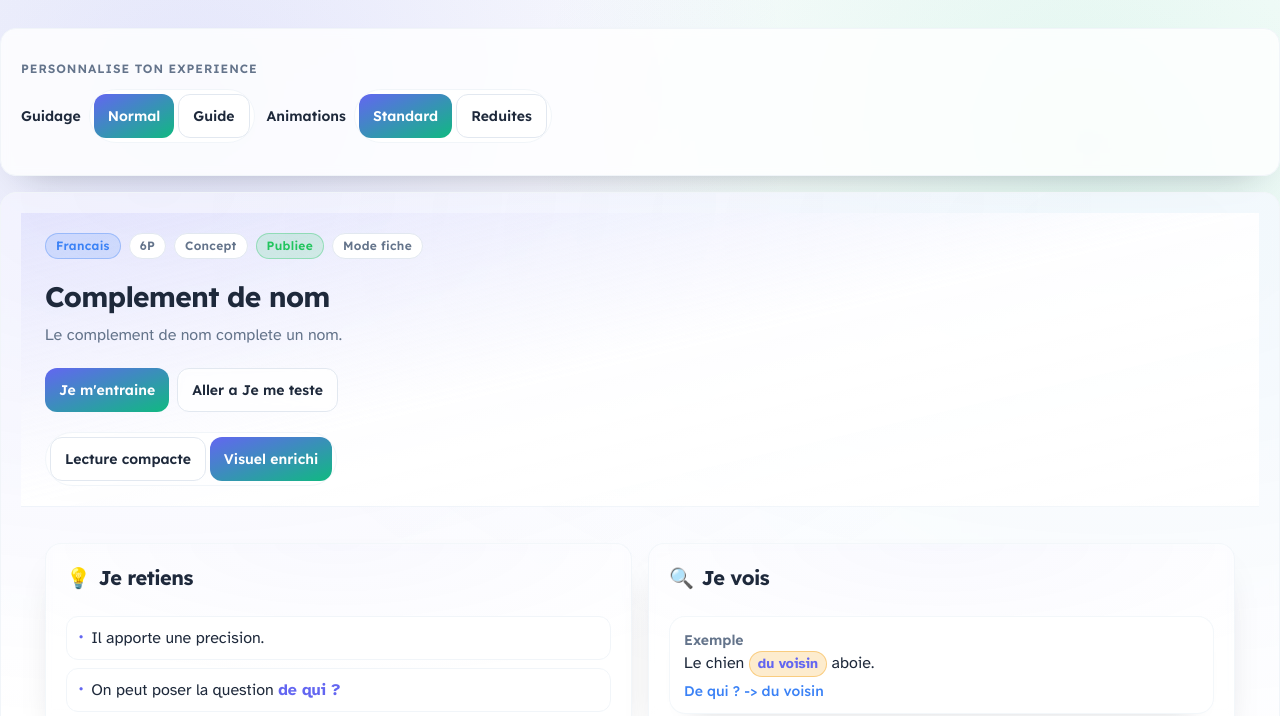
Test: RevisionCardView › shows guided mode helper in practice when guidance preference is enabled
The width and height of the screenshot is (1280, 716).
What coordinates should you click on to do the following:
click the button with test id "revision-pref-guidance-guided"
I would click on:
 (214, 116)
Its box is [178,94,250,138].
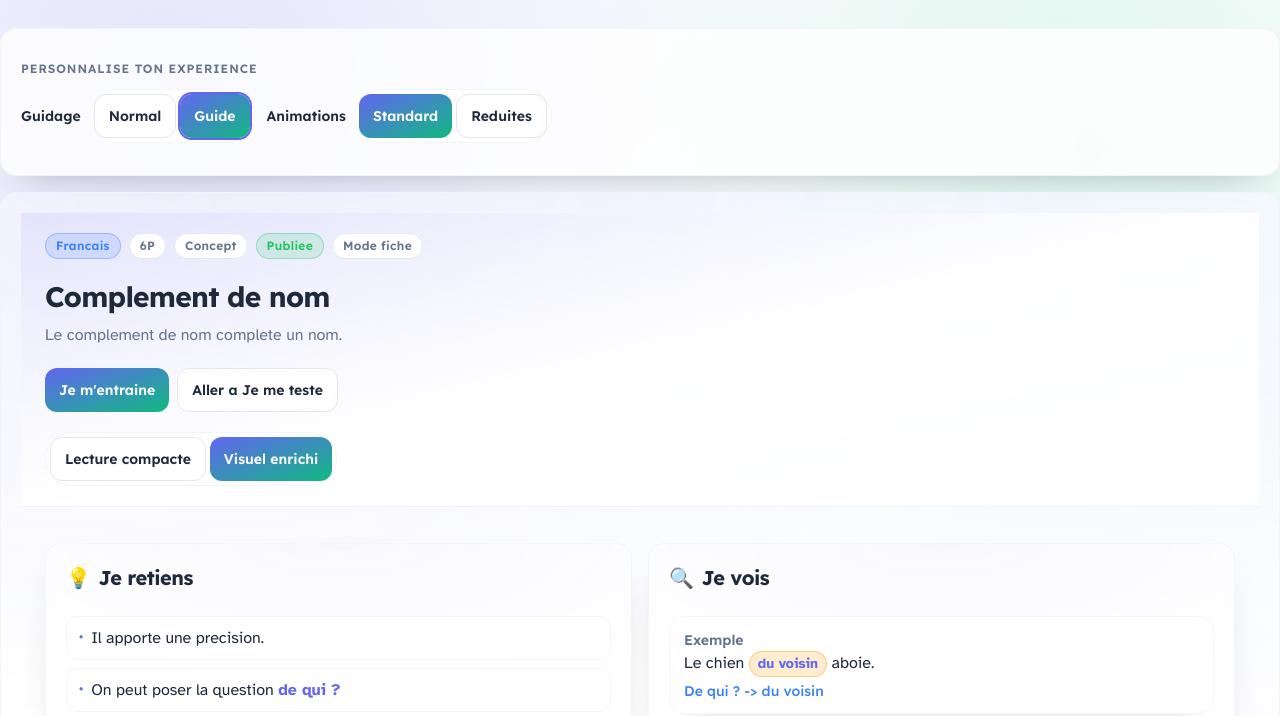
What coordinates should you click on to do the following:
click the button with test id "revision-sheet-to-practice"
I would click on:
 (107, 390)
Its box is [45,368,169,412].
(page scrolled)
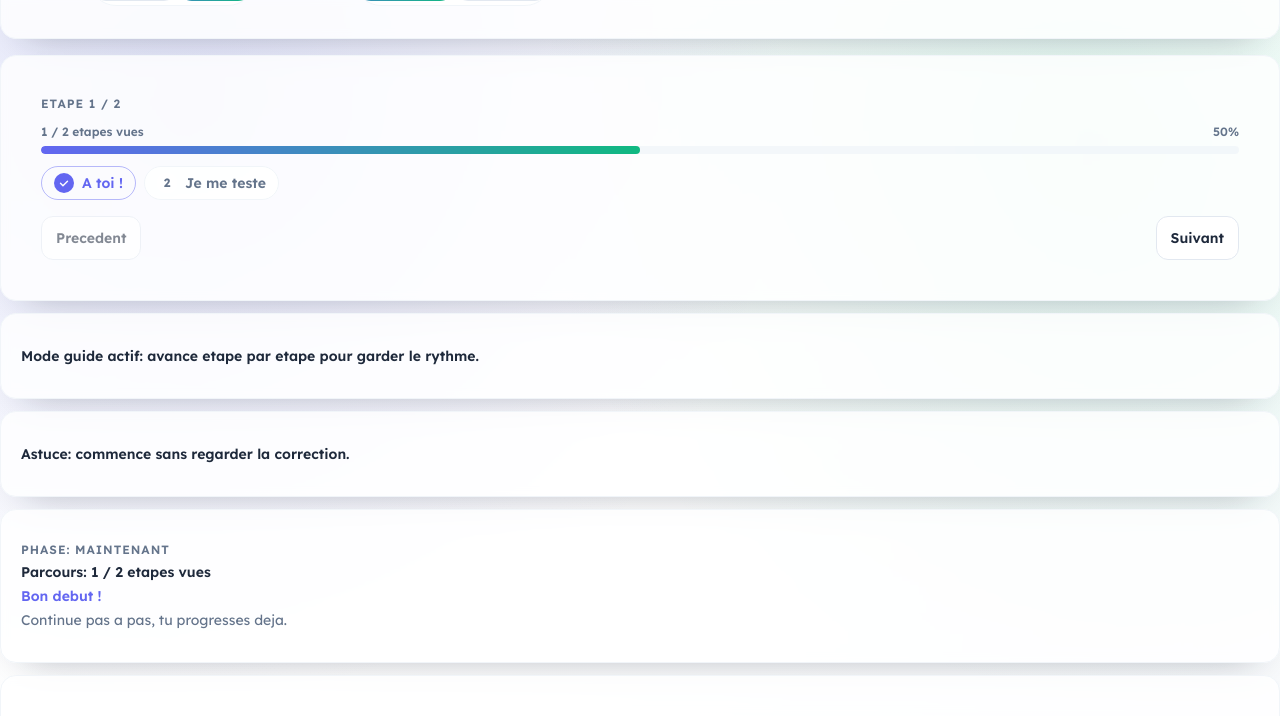
Now the element with test id "revision-guided-mode-note" is shown, box [0,313,1279,399]
Now the element with test id "revision-guided-mode-note" shows "Mode guide actif", box [21,347,479,365]
